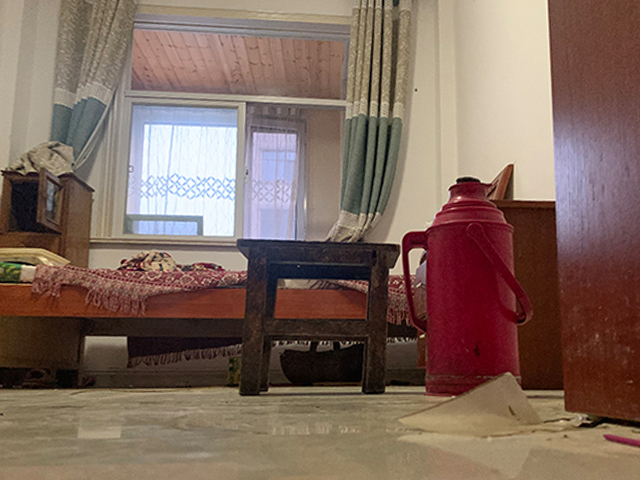bed: (1, 250, 409, 387)
curtain: (326, 3, 416, 243), (30, 1, 139, 182)
stool: (236, 238, 403, 398)
